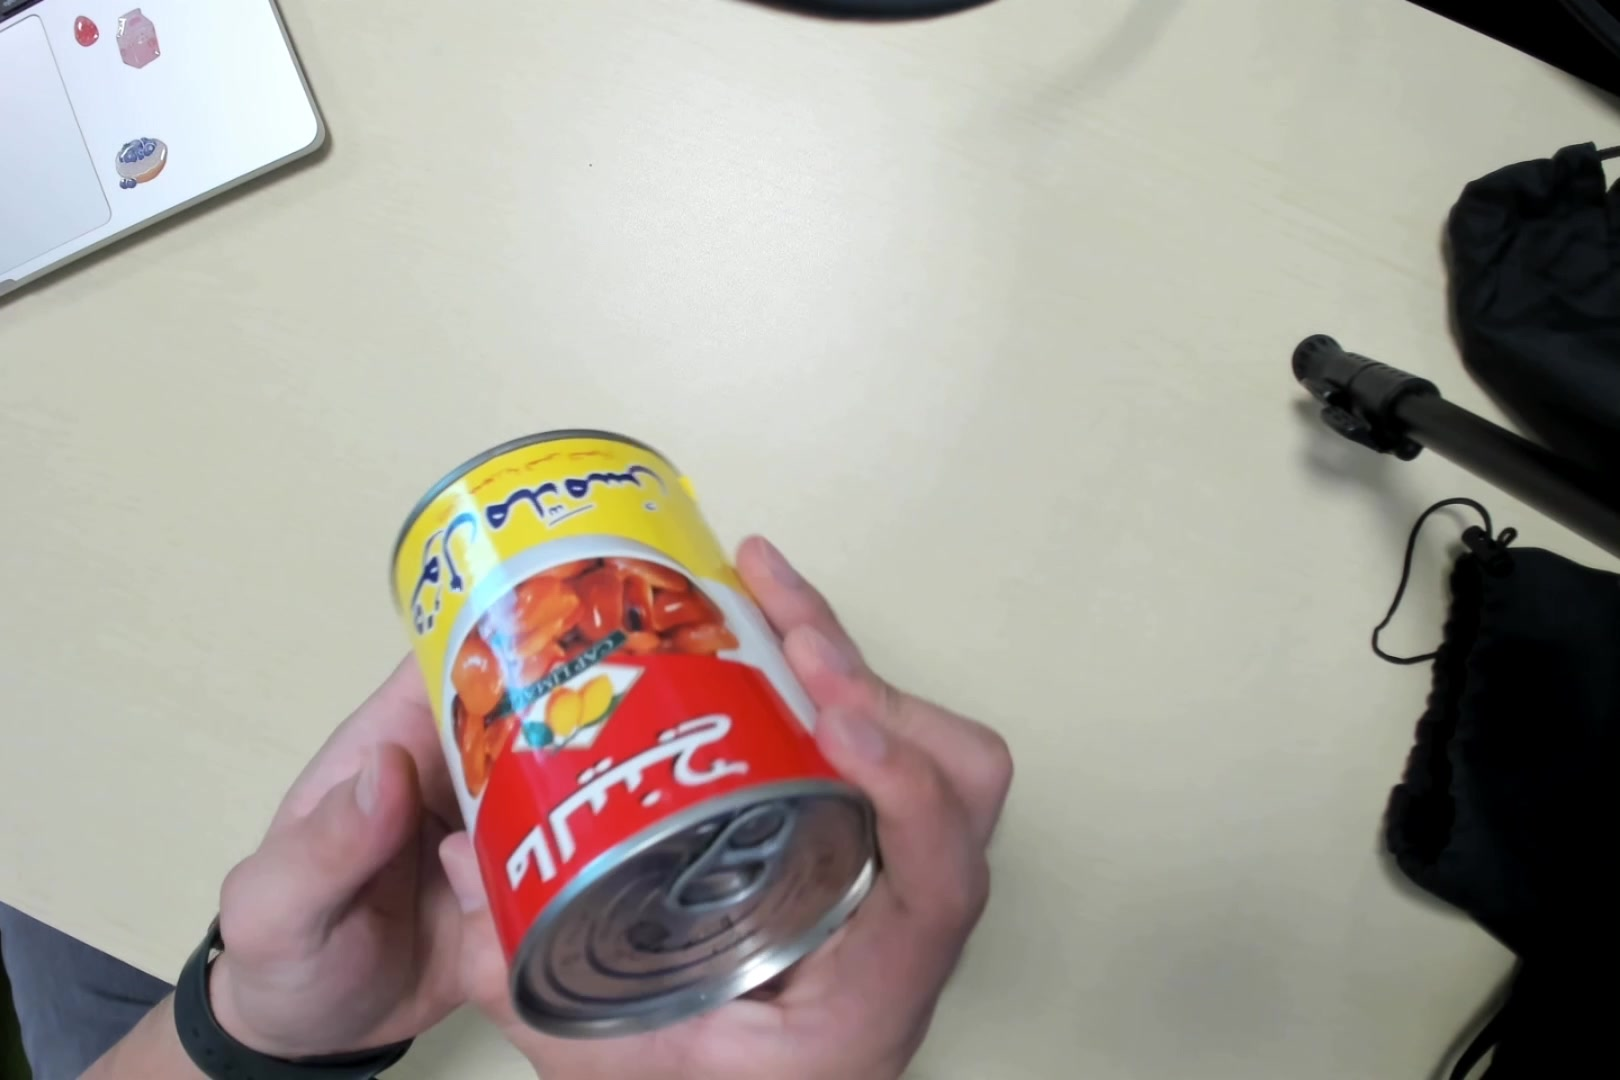OtherCannedBeansPeasPeanuts_400-499g_Halal_NonHealthy: (387, 438, 826, 1040)
